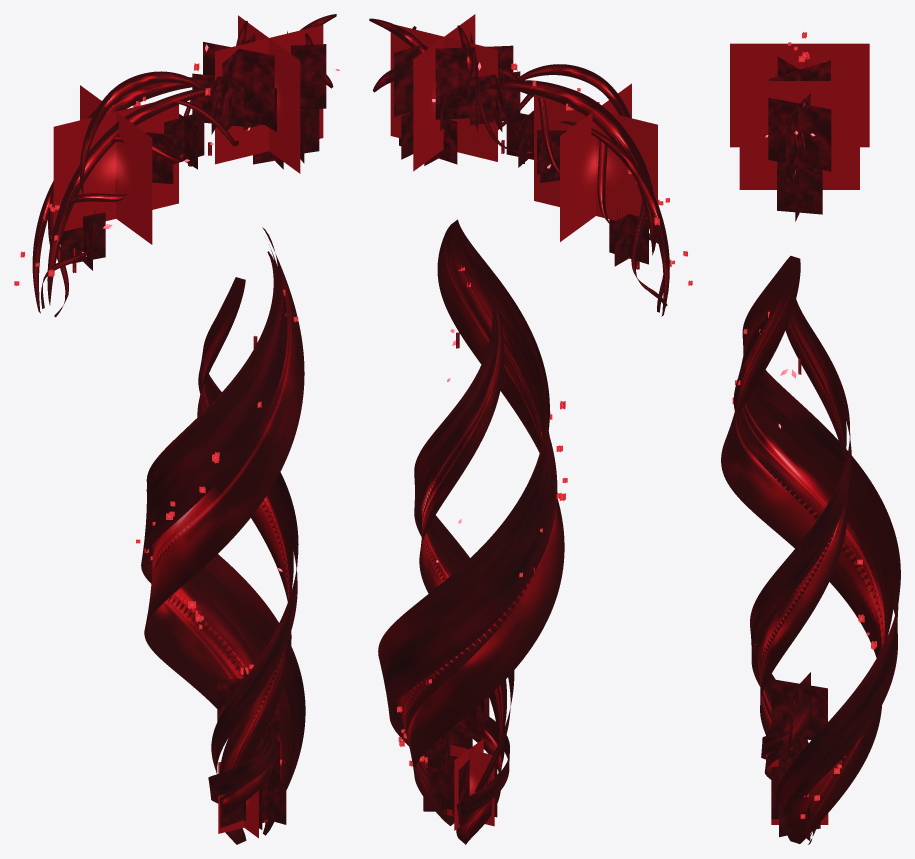
File: ScytheAura.glb
3 renders of one model, left to right at view 1: azimuth 30°, elevation 25°; view 2: azimuth 150°, elevation 25°; view 3: azimuth 270°, elevation 25°, orthographic. The views are drawn at different scales.
Parts seen in each view (by area): view 1: AuraMist1, AuraGlow, AuraSmoke, AuraSmokeSpiral1, AuraBladeFlares, AuraMist2, AuraSmokeSpiral2, AuraSpiral1, AuraSmokeSpiral3, AuraMist3, AuraBladeWrap2, AuraSparks (+2 smaller); view 2: AuraGlow, AuraSmokeSpiral1, AuraMist1, AuraSmoke, AuraBladeFlares, AuraMist2, AuraSpiral1, AuraSmokeSpiral2, AuraMist3, AuraCoreWisps, AuraBladeWrap2, AuraBladeWrap1 (+3 smaller); view 3: AuraMist1, AuraGlow, AuraSmoke, AuraSmokeSpiral1, AuraSpiral1, AuraMist2, AuraSmokeSpiral2, AuraSpiral2, AuraMist3, AuraSparks, AuraSmokeSpiral3.
Part boxes in pixels (x1,y1,x2,y2): AuraMist1: [144, 227, 304, 835]; AuraGlow: [53, 15, 323, 838]; AuraSmoke: [60, 31, 326, 829]; AuraSmokeSpiral1: [141, 251, 305, 819]; AuraBladeFlares: [32, 71, 222, 313]; AuraMist2: [197, 277, 293, 815]; AuraSmokeSpiral2: [198, 320, 298, 774]; AuraSpiral1: [152, 247, 284, 828]; AuraSmokeSpiral3: [208, 721, 275, 803]; AuraMist3: [217, 720, 276, 844]; AuraBladeWrap2: [54, 100, 238, 317]; AuraSparks: [14, 63, 298, 765]; AuraGlow: [390, 14, 657, 830]; AuraSmokeSpiral1: [378, 236, 557, 768]; AuraMist1: [396, 219, 564, 825]; AuraSmoke: [394, 31, 648, 824]; AuraBladeFlares: [487, 64, 669, 316]; AuraMist2: [419, 267, 506, 782]; AuraSpiral1: [404, 227, 543, 784]; AuraSmokeSpiral2: [414, 289, 514, 791]; AuraMist3: [456, 717, 504, 844]; AuraCoreWisps: [369, 18, 519, 92]; AuraBladeWrap2: [476, 94, 667, 306]; AuraBladeWrap1: [475, 86, 663, 312]; AuraMist1: [721, 255, 894, 843]; AuraGlow: [730, 43, 869, 824]; AuraSmoke: [768, 57, 831, 841]; AuraSmokeSpiral1: [733, 313, 900, 817]; AuraSpiral1: [737, 390, 886, 780]; AuraMist2: [755, 319, 848, 734]; AuraSmokeSpiral2: [750, 299, 851, 748]; AuraSpiral2: [760, 307, 844, 749]; AuraMist3: [764, 694, 815, 844]; AuraSparks: [732, 32, 876, 818]; AuraSmokeSpiral3: [761, 731, 783, 759].
Size of the model in its own units: 2.84 by 6.91 by 1.42.
Materials: 8 (7 with a texture image).
